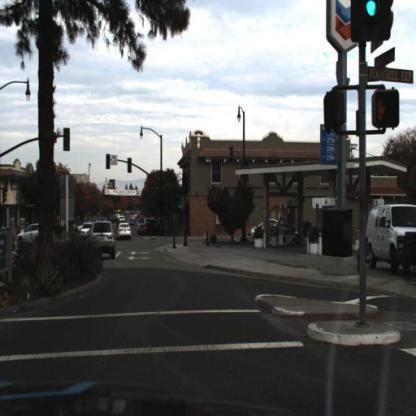car: (368, 203, 416, 275), (88, 217, 117, 262), (17, 221, 57, 251), (140, 221, 164, 238), (117, 221, 135, 242)
trafficLight-Green: (360, 2, 385, 37)
trafficLight-RedLeft: (106, 153, 111, 169)
